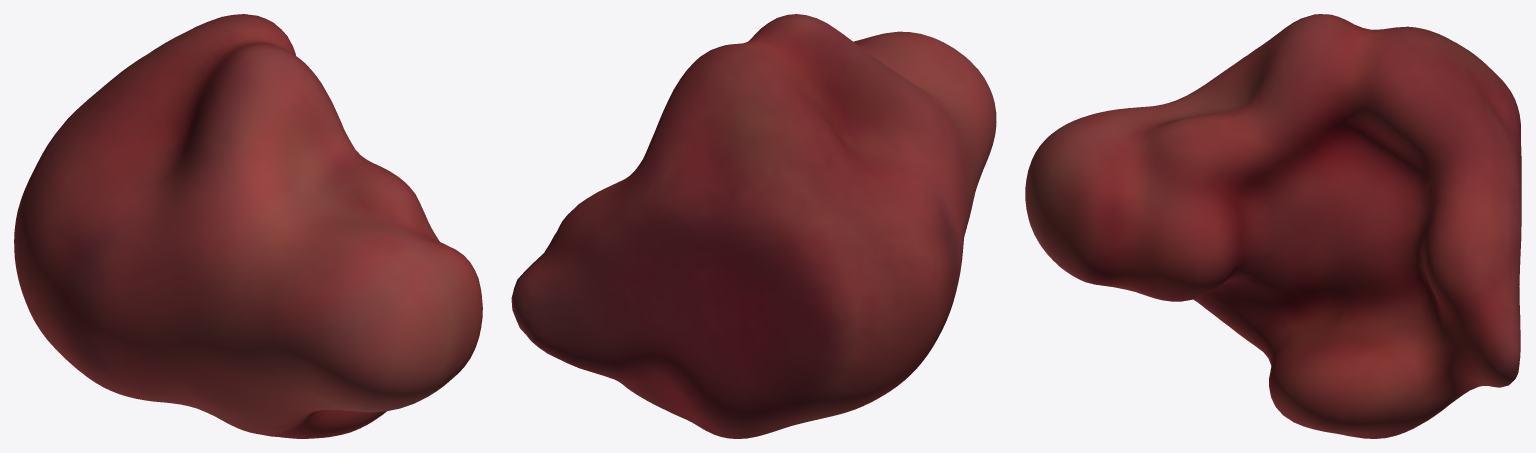
The model's file is chimp.dae.
3 renders of one model, left to right at view 1: azimuth 30°, elevation 25°; view 2: azimuth 150°, elevation 25°; view 3: azimuth 270°, elevation 25°, orthographic. The views are drawn at different scales.
Visible parts, largest first — view 1: model; view 2: model; view 3: model.
Boxes of the visible parts, <box> form: model: <box>14,14,482,438</box>; model: <box>511,14,996,438</box>; model: <box>1025,14,1521,438</box>.
Size of the model in its own units: 75.87 by 77.6 by 91.77.
